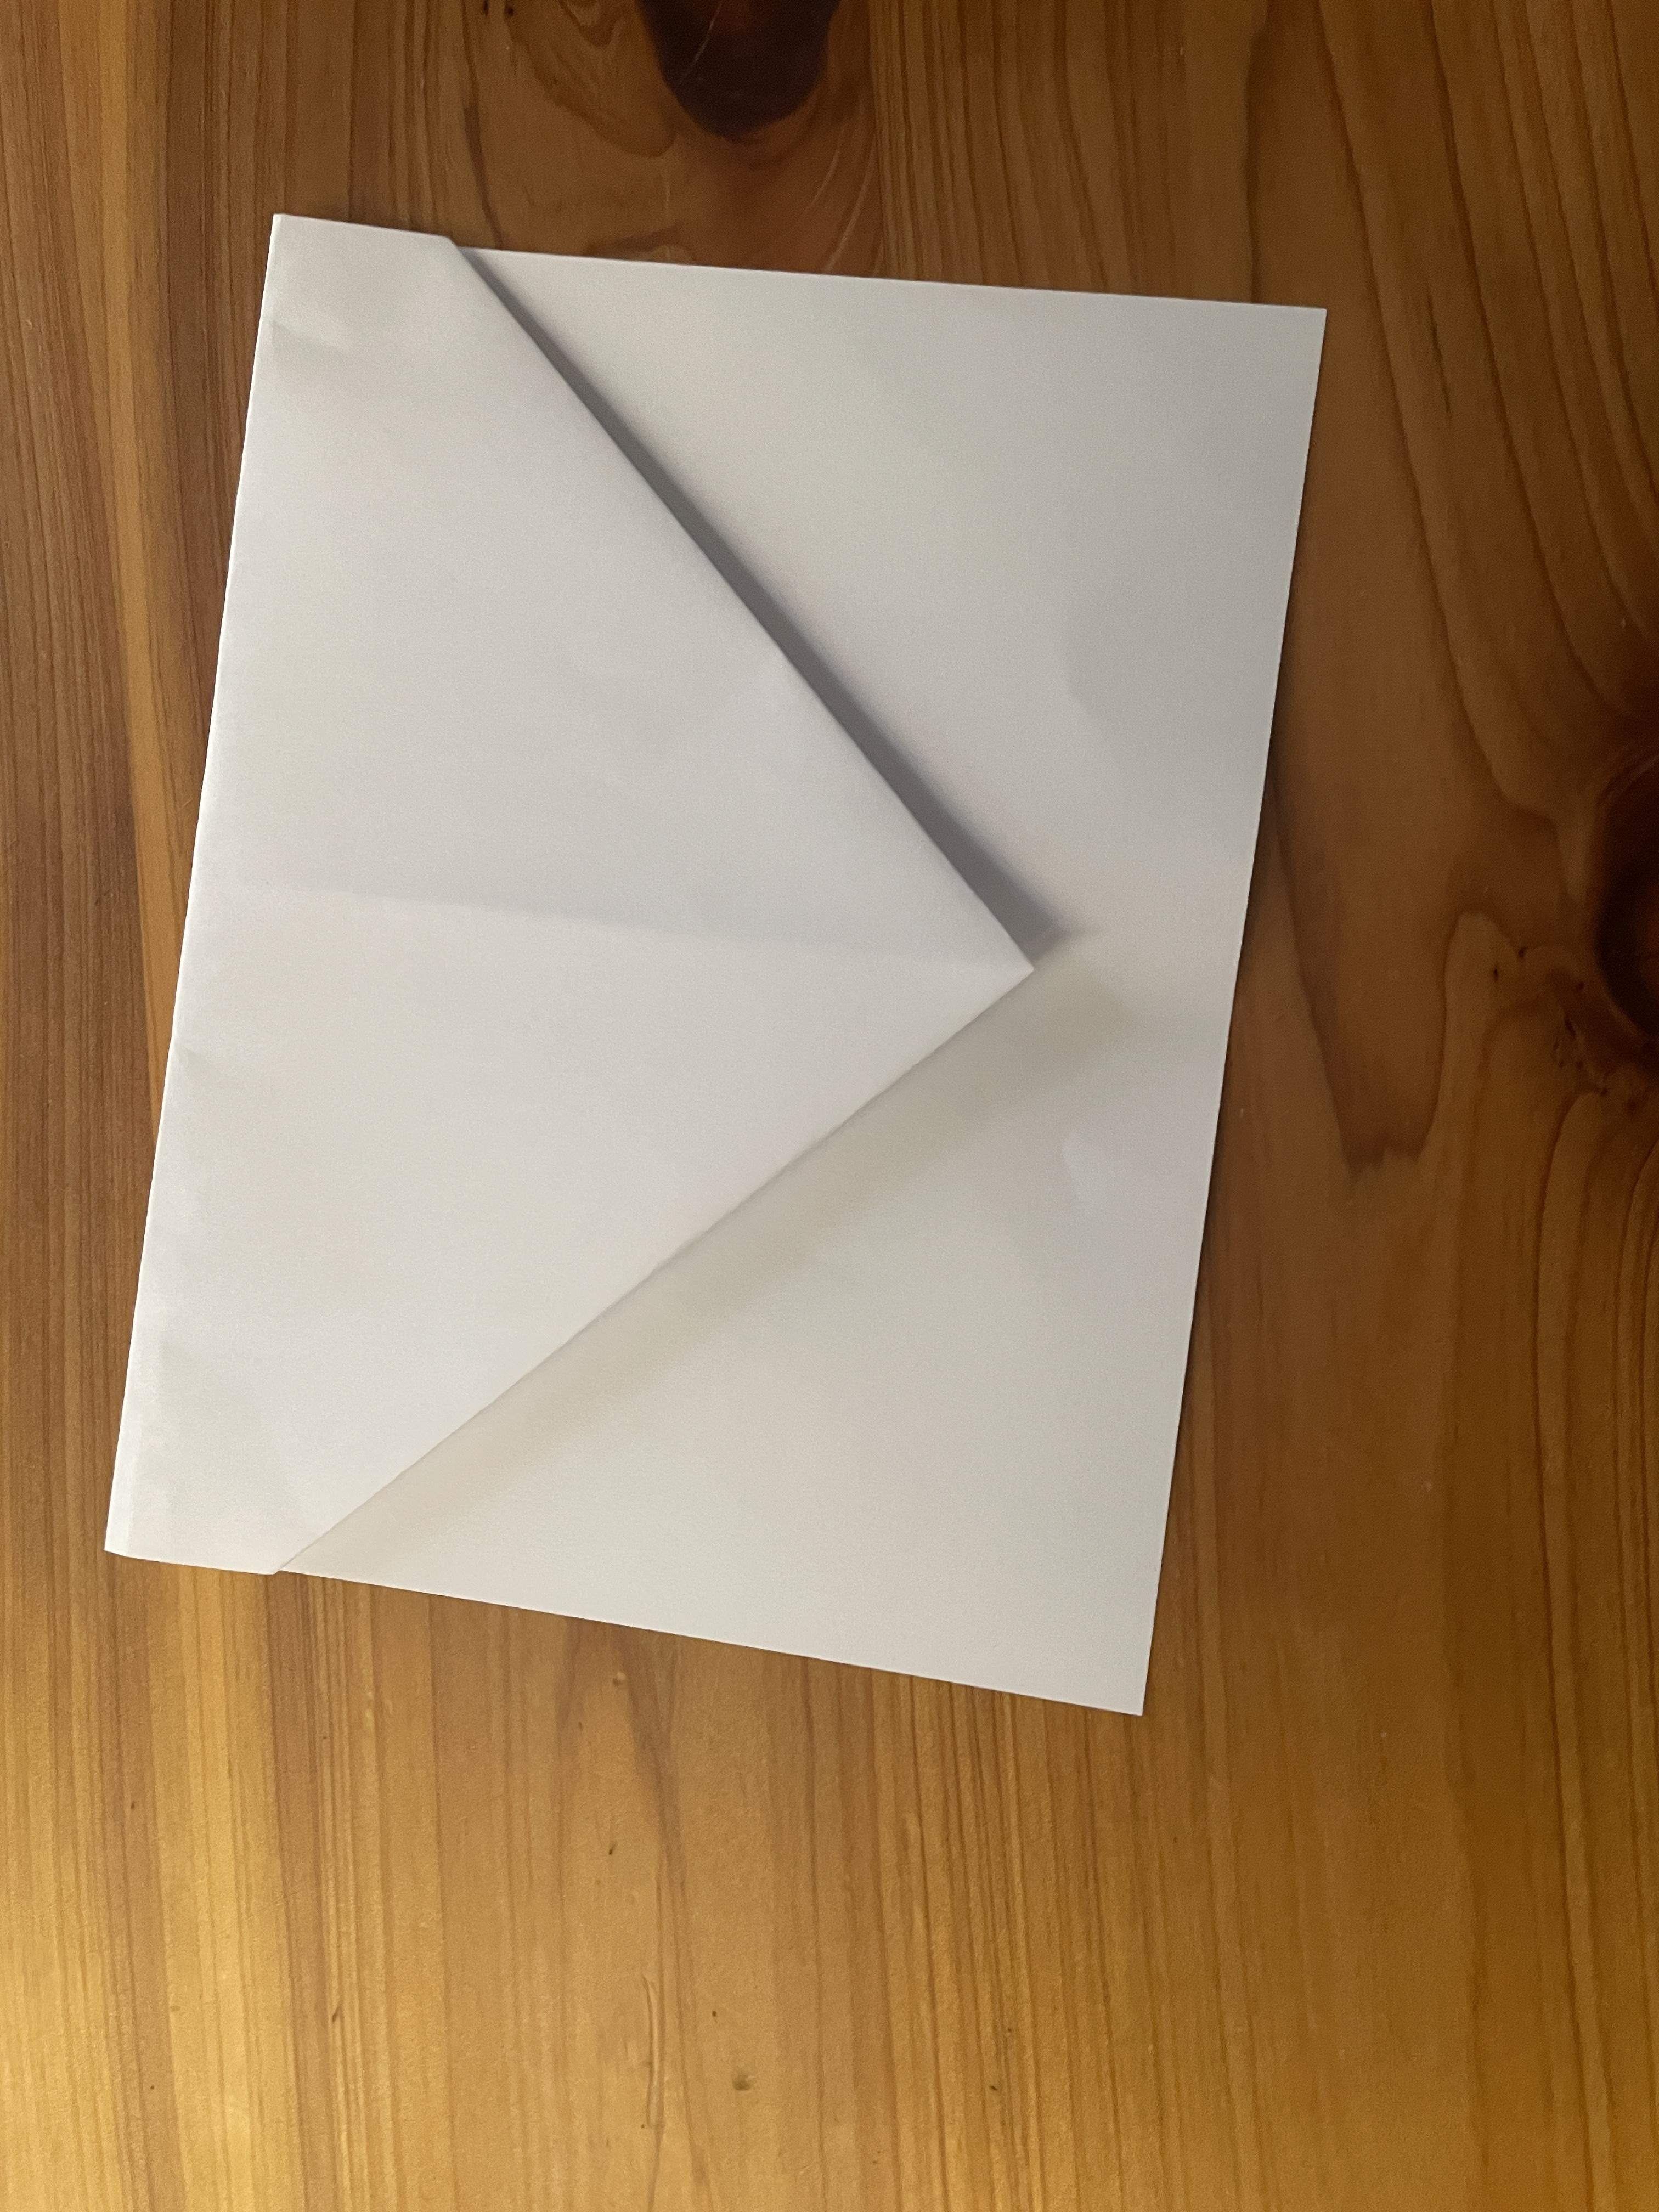shape_1: (49, 89, 1466, 1885)
